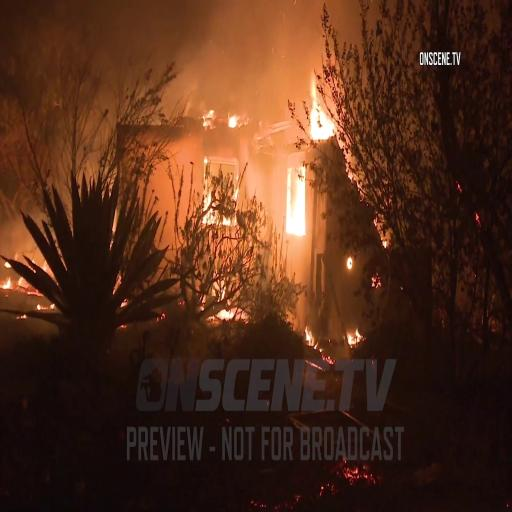fire: (308, 75, 338, 148), (288, 168, 307, 236)
smoke: (209, 4, 297, 106)
